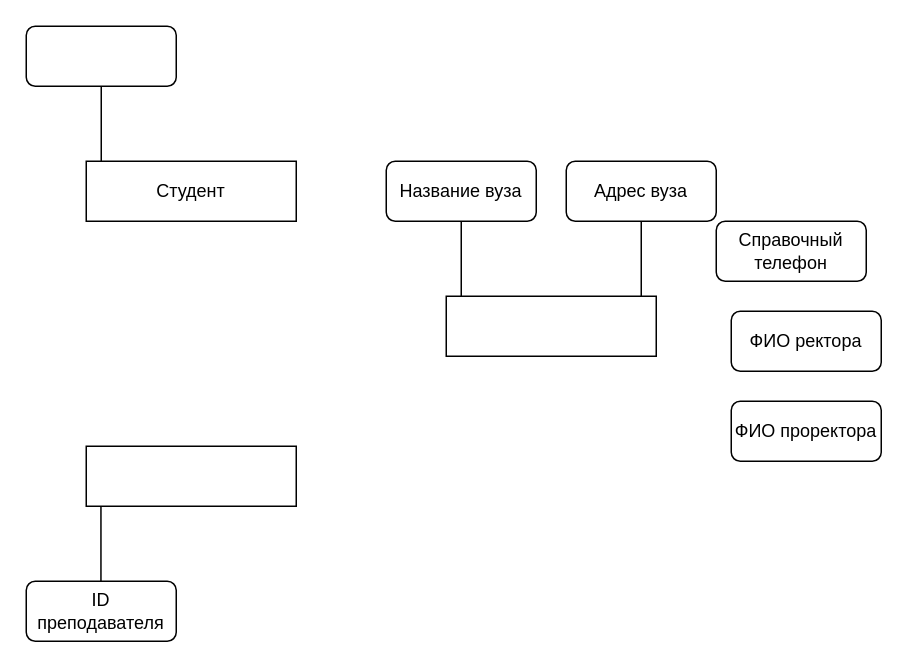
Image size: 908x668. Some labels were removed from this diagram. The shapes that lost their labels are listed below. From the top down, each one's centre as x and y in pixels, then its label:
At point 100,55: "ID студента".
At point 550,325: "ВУЗ".
At point 190,475: "Преподаватель".
